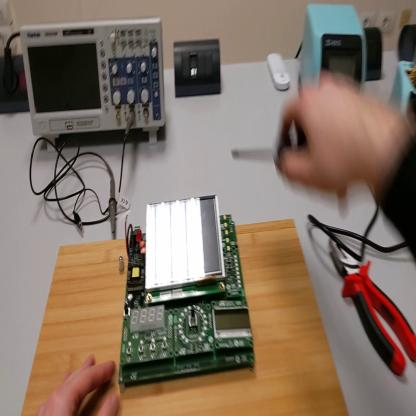hand: (276, 71, 379, 200), (35, 353, 120, 412)
low voltage board: (120, 195, 259, 387)
oscilloscope: (20, 12, 168, 149)
oscilloscope probe tip: (107, 164, 119, 239)
pliers: (330, 228, 415, 378)
screwdriver-: (232, 139, 308, 167)
socket: (1, 54, 30, 115), (365, 25, 384, 82), (400, 22, 416, 60)
welder base: (391, 47, 416, 128)
welder station: (301, 2, 368, 91)
working area: (23, 218, 352, 416)
